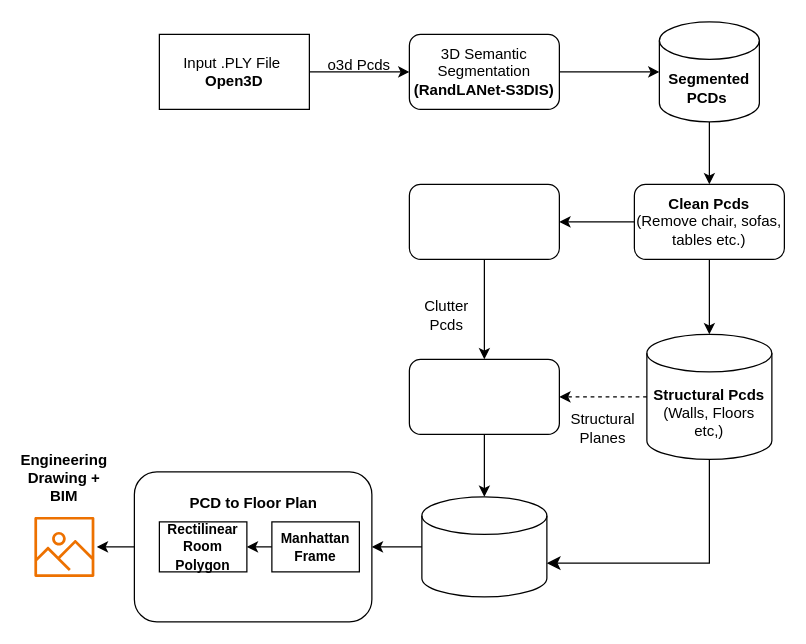
This 806x644 diagram has some shape labels left out. Here are the shapes that lost their labels. From the top down, the centre of each, then its label:
At point (483, 221): "Clutter Extraction (S3DIS Clutter Class)".
At point (483, 396): "Iterative RANSAC Refinement".
At point (484, 546): "Final Structural Pcds".
